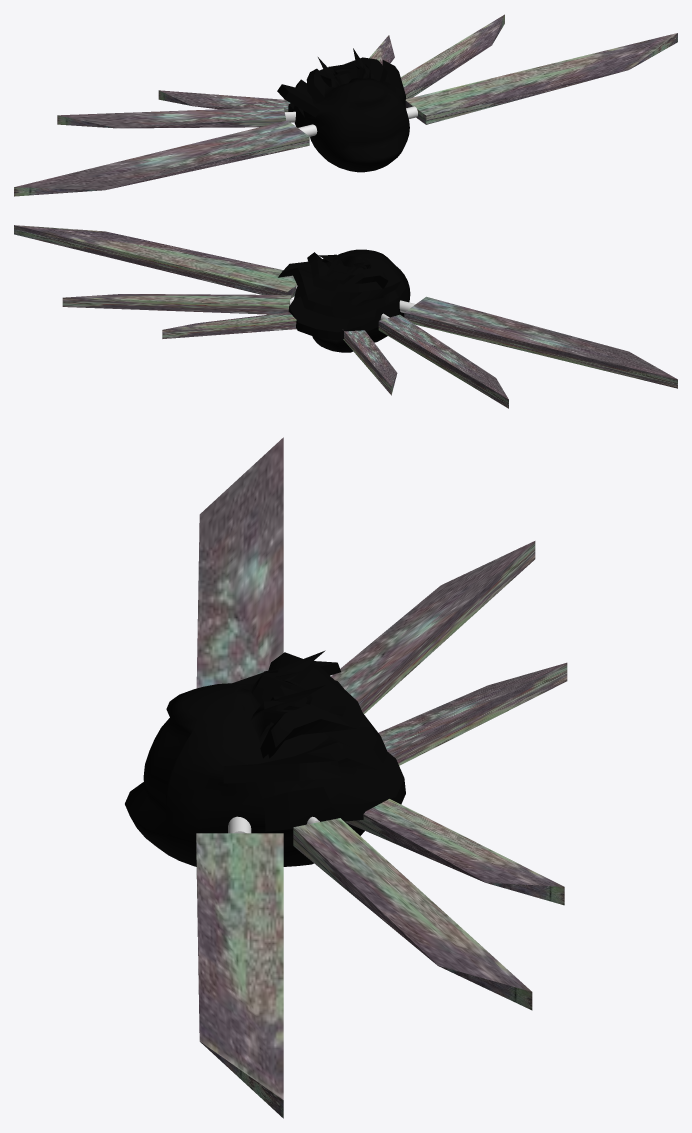
File: MetalShip.fbx
The picture shows the model from 3 angles, top to bottom: view 1: azimuth 30°, elevation 25°; view 2: azimuth 150°, elevation 25°; view 3: azimuth 270°, elevation 25°; orthographic projection. The views are drawn at different scales.
Parts seen in each view (by area): view 1: model3, pCube4, pCube1, pCube3, pCube2, wingSmall1, wingSmall; view 2: model3, pCube4, pCube1, pCube2, pCube3, wingSmall, wingSmall1; view 3: model3, pCube1, pCube4, pCube2, pCube3, wingSmall, wingSmall1.
Part boxes in pixels (x1,y1,x2,y2): model3: [277, 48, 409, 172]; pCube4: [14, 120, 309, 196]; pCube1: [405, 33, 677, 124]; pCube3: [57, 107, 285, 128]; pCube2: [400, 14, 504, 98]; wingSmall1: [158, 90, 290, 111]; wingSmall: [369, 35, 394, 65]; model3: [278, 249, 410, 352]; pCube4: [404, 296, 677, 388]; pCube1: [14, 225, 296, 297]; pCube2: [62, 294, 291, 314]; pCube3: [378, 314, 508, 408]; wingSmall: [162, 312, 296, 338]; wingSmall1: [342, 329, 397, 395]; model3: [125, 650, 405, 866]; pCube1: [196, 833, 283, 1118]; pCube4: [196, 437, 283, 688]; pCube2: [293, 818, 532, 1010]; pCube3: [331, 541, 535, 713]; wingSmall: [345, 799, 564, 905]; wingSmall1: [378, 662, 567, 765].
Size of the model in its own units: 898 by 259 by 126.
Materials: 3 (1 with a texture image).
